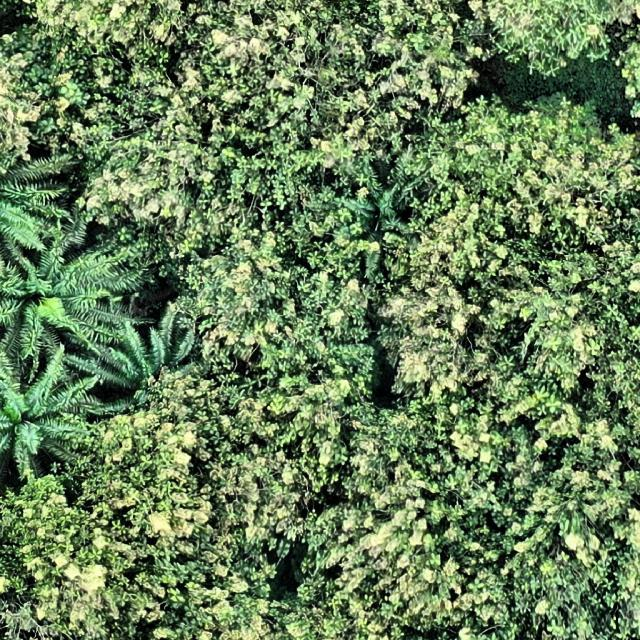Kelapa_Sawit: (4, 248, 98, 352), (0, 361, 84, 470), (85, 327, 189, 402), (352, 168, 428, 246), (0, 160, 50, 259)
